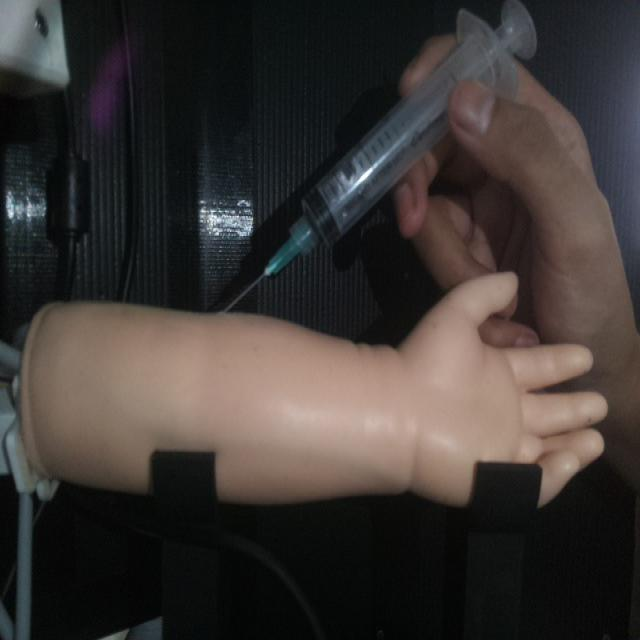Above 30 degrees: (217, 0, 538, 313)
